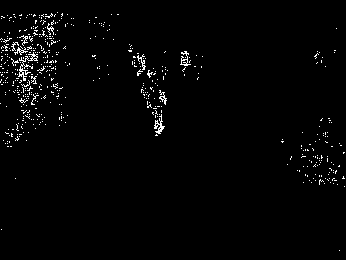person: (141, 65, 170, 138)
